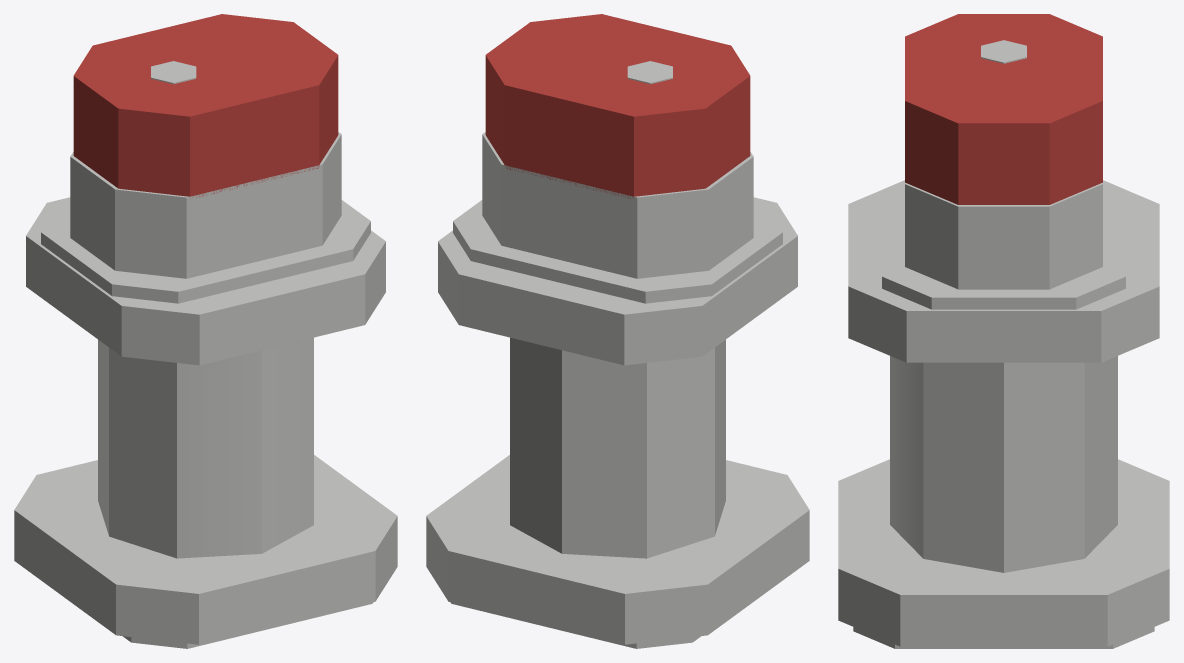
Rendered from hot_cam_lod2.glb.
3 views of the same model, side by side, from view 1: azimuth 30°, elevation 25°; view 2: azimuth 150°, elevation 25°; view 3: azimuth 270°, elevation 25° (orthographic).
Parts seen in each view (by area): view 1: hot_cam_lod2; view 2: hot_cam_lod2; view 3: hot_cam_lod2.
Part boxes in pixels (x1,y1,x2,y2): hot_cam_lod2: (14,14,397,648); hot_cam_lod2: (426,14,809,648); hot_cam_lod2: (838,14,1169,648).
Size of the model in its own units: 0.174 by 0.3 by 0.174.
